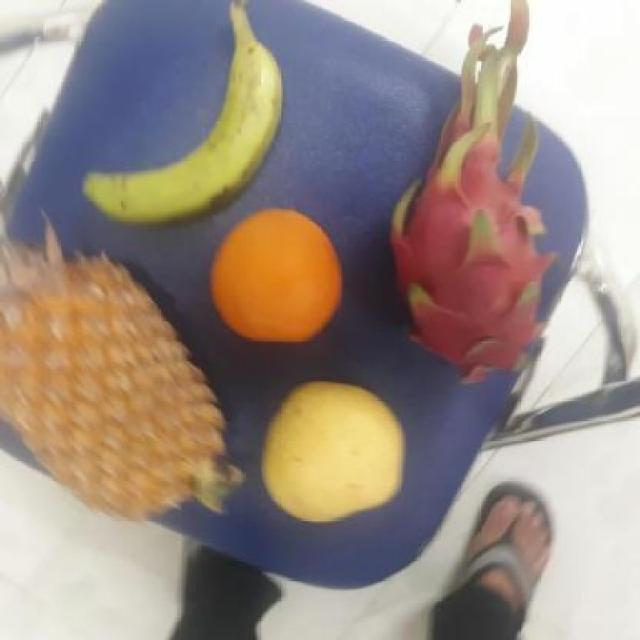banana: (82, 16, 284, 230)
dragon fruit: (386, 114, 562, 378)
